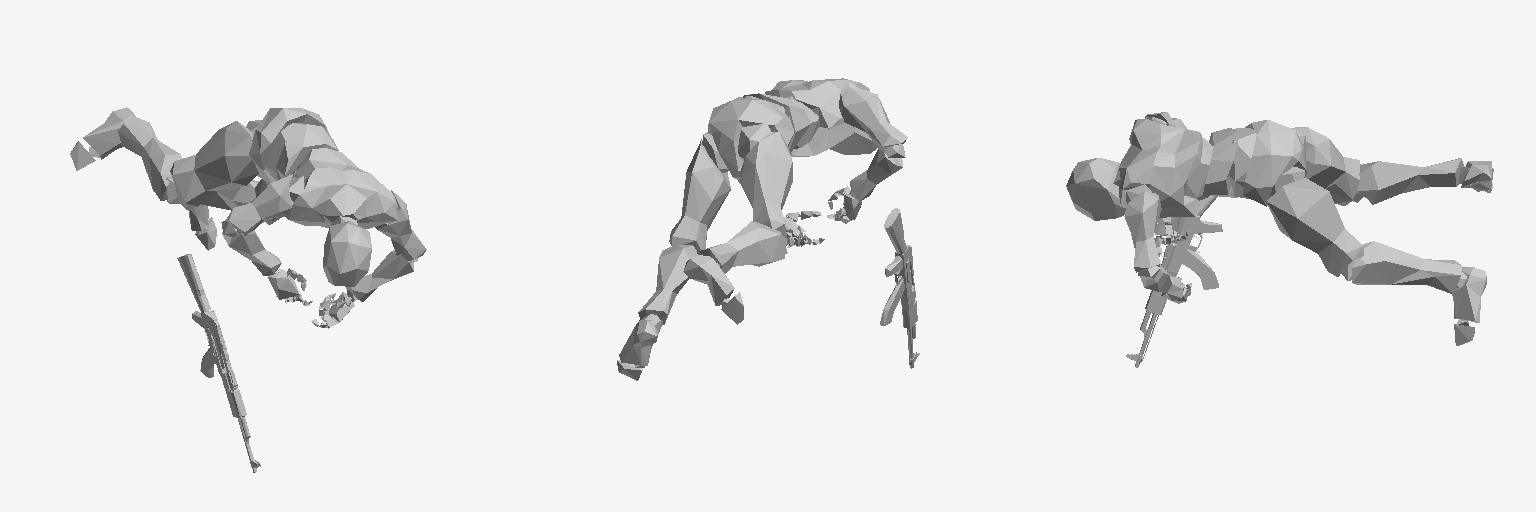
File: EnemyDying_000037.obj
3 renders of one model, left to right at view 1: azimuth 30°, elevation 25°; view 2: azimuth 150°, elevation 25°; view 3: azimuth 270°, elevation 25°, orthographic.
Visible parts, largest first — view 1: Alpha_Surface, AK-47_Cube, Alpha_Joints; view 2: Alpha_Surface, AK-47_Cube, Alpha_Joints; view 3: Alpha_Surface, Alpha_Joints, AK-47_Cube.
Part boxes in pixels (left/top/right/bottom): Alpha_Surface: left=70, top=107, right=426, bottom=327; AK-47_Cube: left=177, top=254, right=260, bottom=472; Alpha_Joints: left=89, top=120, right=417, bottom=328; Alpha_Surface: left=617, top=78, right=907, bottom=380; AK-47_Cube: left=880, top=208, right=919, bottom=368; Alpha_Joints: left=635, top=82, right=905, bottom=367; Alpha_Surface: left=1066, top=112, right=1493, bottom=345; Alpha_Joints: left=1113, top=117, right=1488, bottom=325; AK-47_Cube: left=1126, top=196, right=1222, bottom=367.
Size of the model in its own units: 170 by 234 by 310.